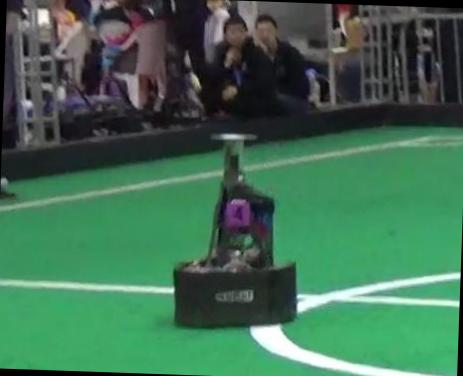robot: (173, 134, 296, 326)
